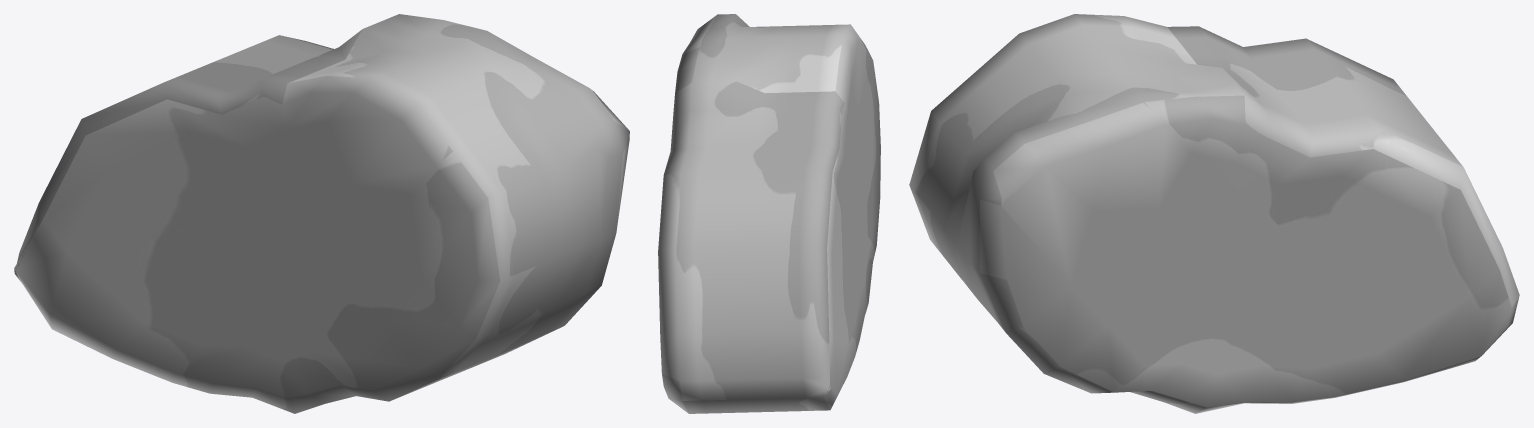
File: Rock.FBX
3 renders of one model, left to right at view 1: azimuth 30°, elevation 25°; view 2: azimuth 150°, elevation 25°; view 3: azimuth 270°, elevation 25°, orthographic. The views are drawn at different scales.
Parts seen in each view (by area): view 1: Box082; view 2: Box082; view 3: Box082.
Part boxes in pixels (left/top/right/bottom): Box082: left=14, top=14, right=629, bottom=413; Box082: left=658, top=14, right=880, bottom=413; Box082: left=909, top=14, right=1519, bottom=413.
Bounding box in the file's own units: 53.52 × 47.89 × 73.65.
Materials: 1 (1 with a texture image).
